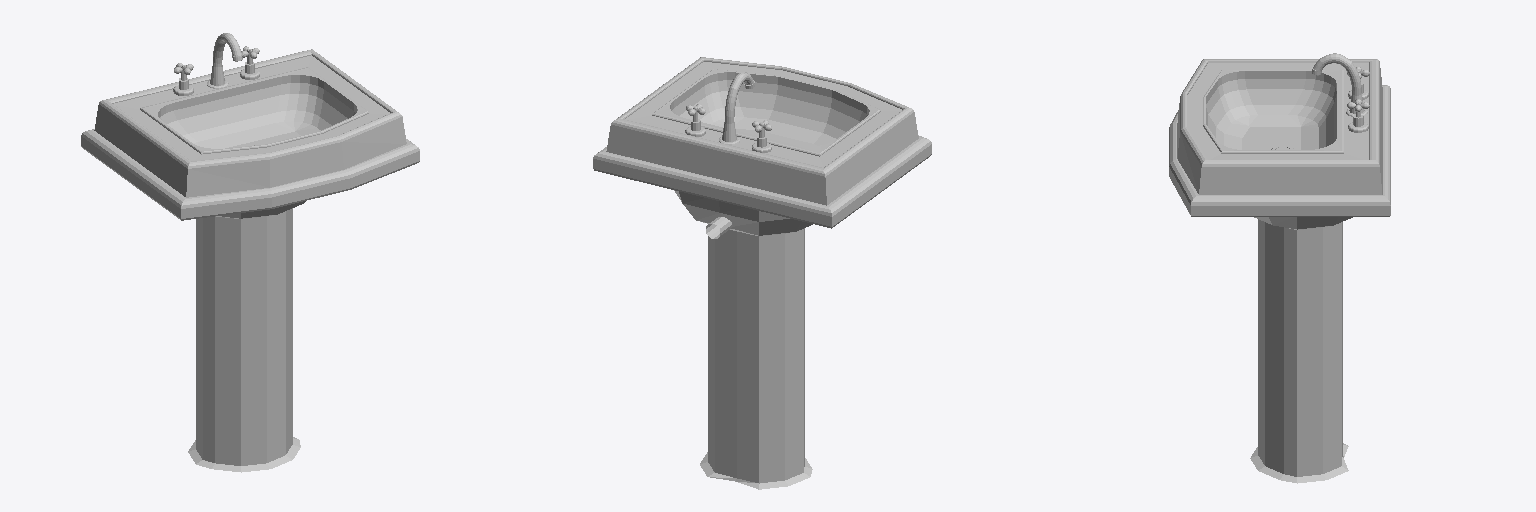
The model's file is sink.obj.
3 views of the same model, side by side, from view 1: azimuth 30°, elevation 25°; view 2: azimuth 150°, elevation 25°; view 3: azimuth 270°, elevation 25° (orthographic).
Visible parts, largest first — view 1: Circle_Mesh; view 2: Circle_Mesh; view 3: Circle_Mesh.
Boxes of the visible parts, x1=… form: Circle_Mesh: x1=81, y1=33, x2=419, y2=472; Circle_Mesh: x1=593, y1=57, x2=931, y2=489; Circle_Mesh: x1=1169, y1=53, x2=1390, y2=483.
Size of the model in its own units: 1.88 by 3.04 by 1.51.